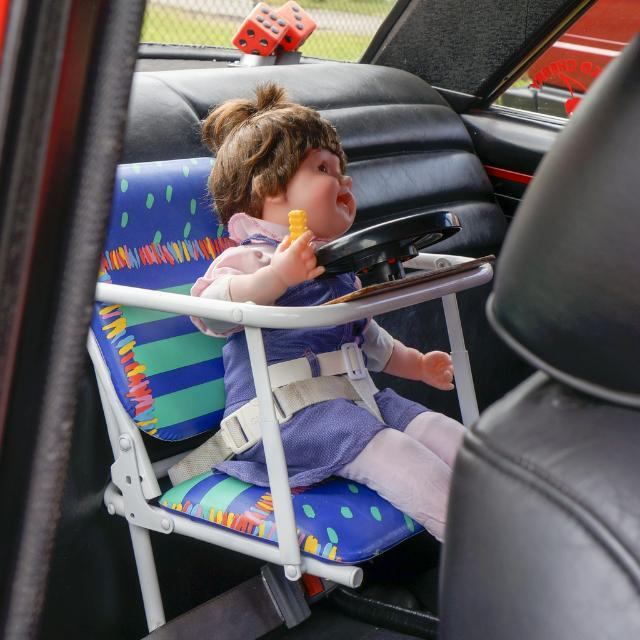Seatbelt: (164, 368, 380, 487), (140, 565, 334, 639)
